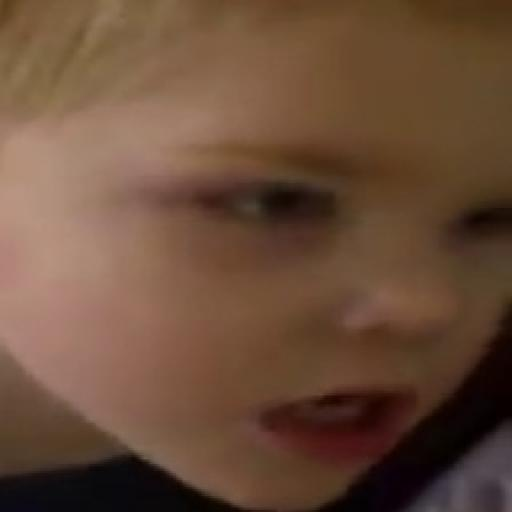Autism: (6, 4, 507, 512)
